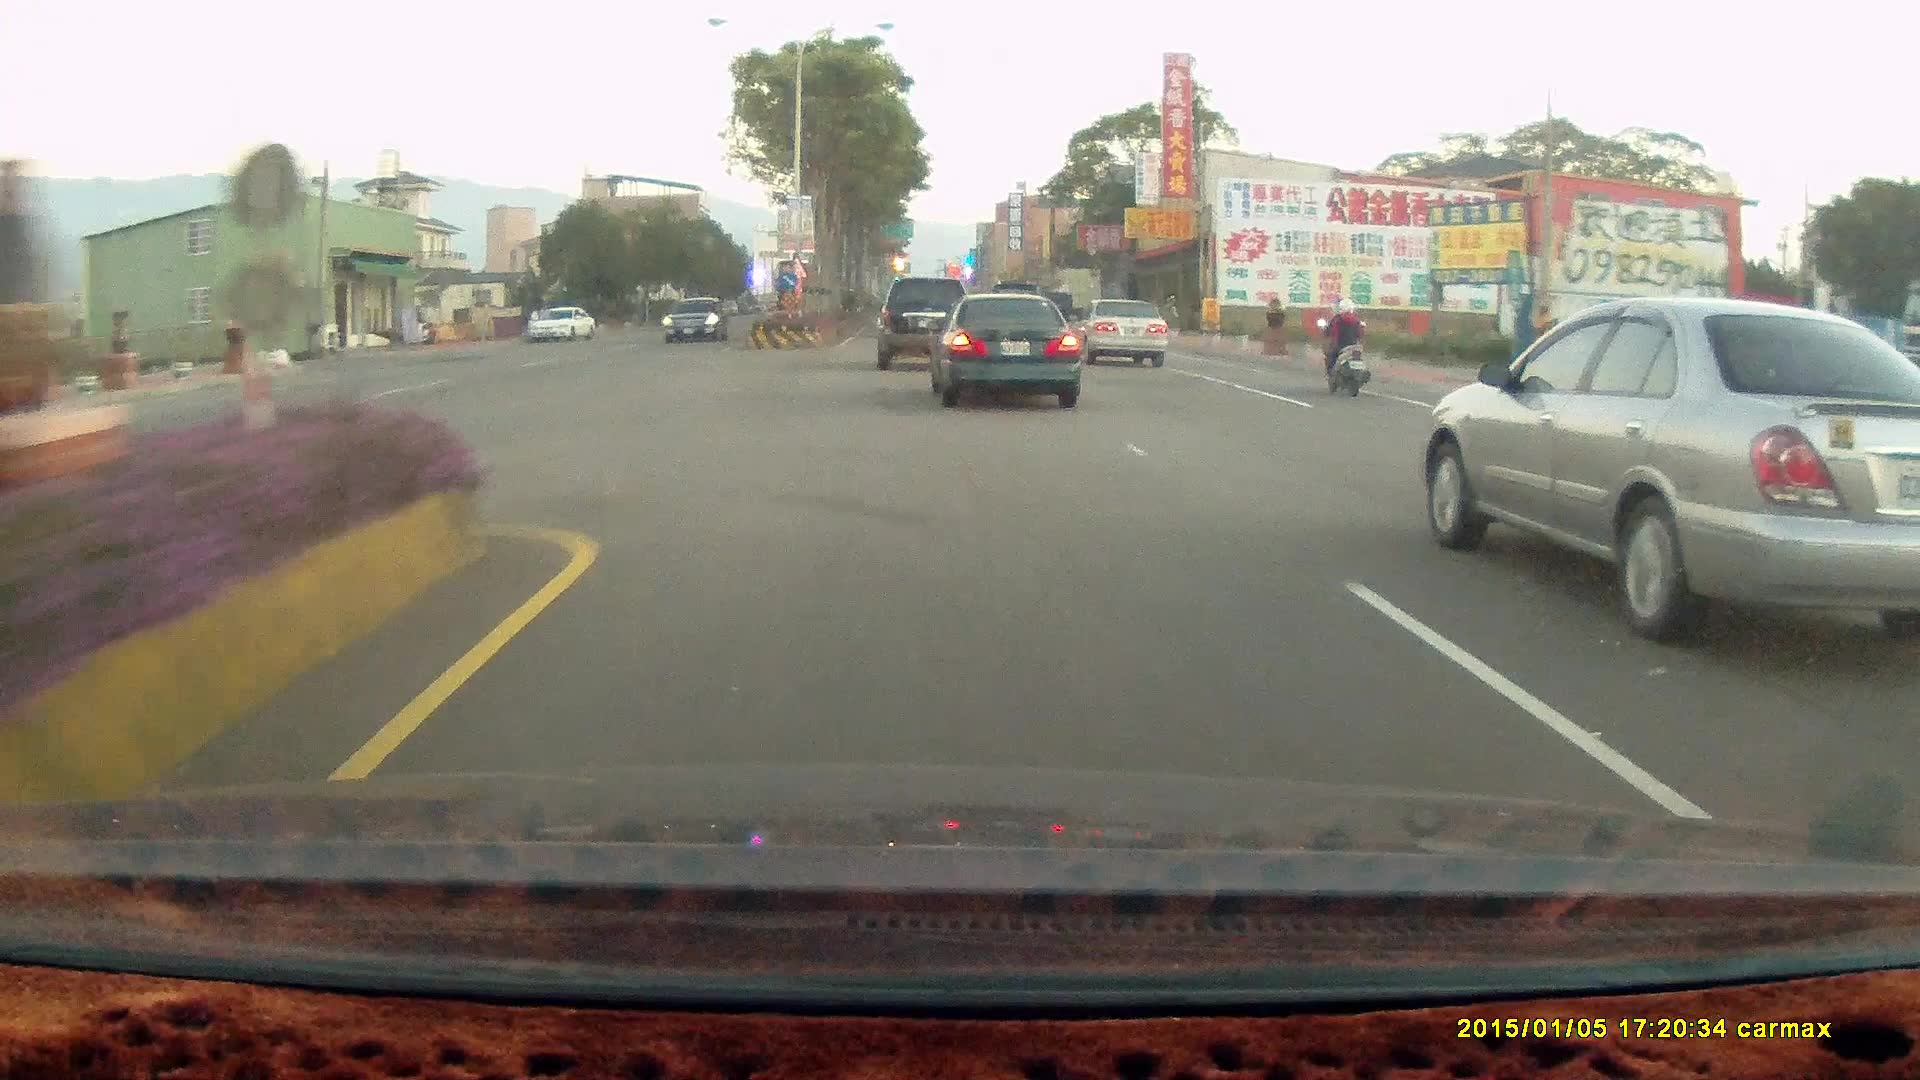rider: (1307, 288, 1384, 405), (1314, 294, 1370, 393)
vehicle: (1418, 297, 1920, 653), (923, 290, 1079, 406), (933, 297, 1083, 409), (880, 274, 976, 374), (876, 277, 970, 371), (1072, 295, 1169, 365), (1073, 301, 1170, 368), (663, 297, 732, 345), (663, 294, 730, 339), (525, 305, 595, 343), (529, 307, 598, 346)
